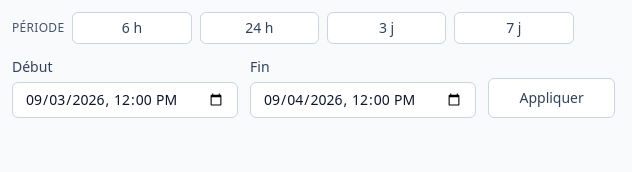
Test: TimeRangePicker · bornes explicites › refuse une date manquante
The width and height of the screenshot is (632, 172).
Clear the field labelled "Début": (125, 100) [12,82,238,118]
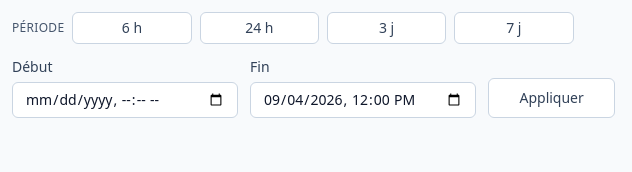
Click the button "Appliquer": (552, 98) [488,78,615,118]
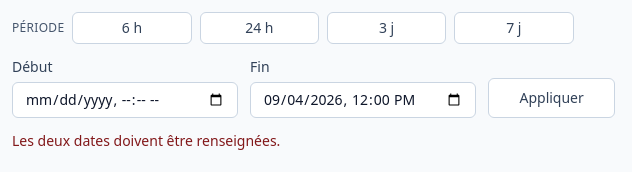
Check: the message reads "Les deux dates doivent être renseignées.", box [12,131,280,150]
